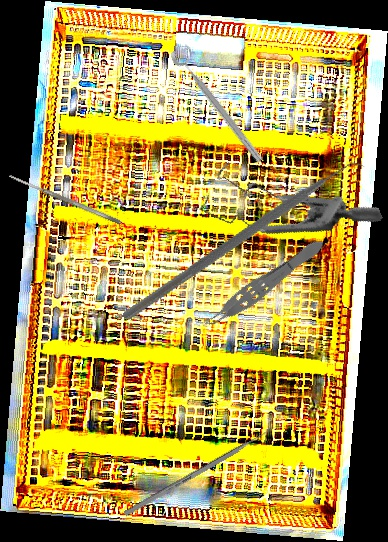Chopper: (121, 100, 375, 387)
Fixation Ring: (167, 41, 273, 166)
Pusher: (123, 423, 280, 517)
Spatula Surgical: (6, 172, 123, 226)
Speculum: (189, 114, 384, 285)
Tissue Forceps: (191, 231, 331, 339)
